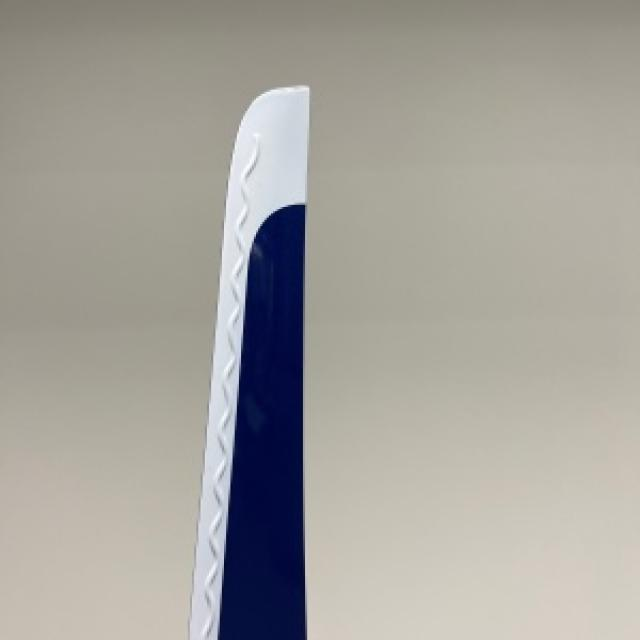healthy: (190, 83, 305, 638)
